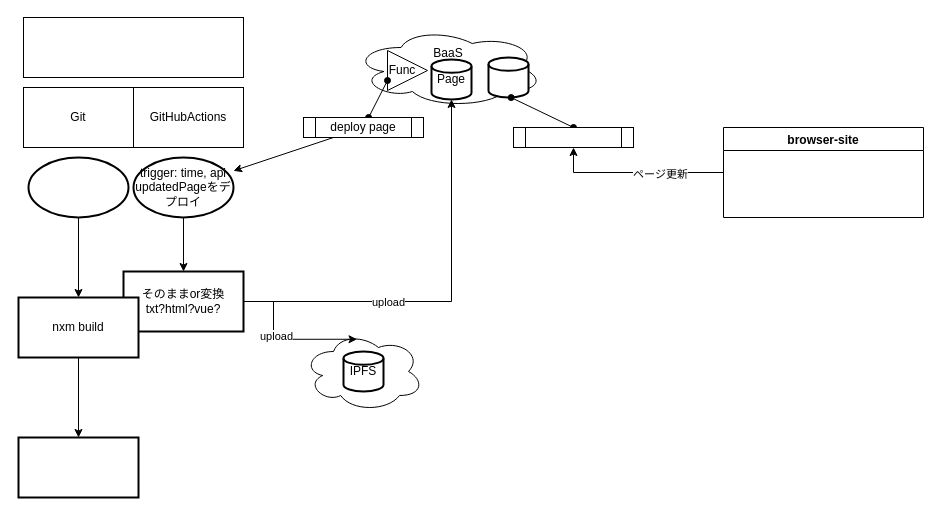
The diagram is 941 pixels wide and 516 high, and some of its shapes have lost their labels. Here are the shapes that lost their labels. From the top down, the box of each, then its label:
(22, 16, 244, 78): GitHub
(487, 56, 529, 98): User
(512, 126, 634, 148): 更新一覧に追加
(27, 156, 129, 218): trigger: git push
(17, 436, 139, 498): commit to git-page-branch
